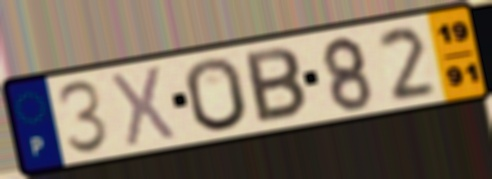2: (375, 24, 440, 104)
3: (56, 78, 111, 156)
8: (318, 31, 375, 113)
B: (242, 45, 310, 127)
O: (182, 55, 252, 135)
X: (107, 62, 178, 150)
